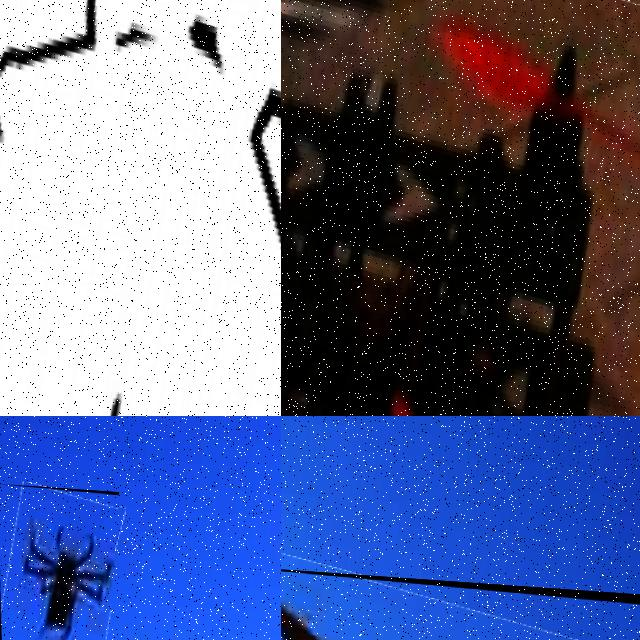0: (281, 563, 640, 640), (0, 483, 118, 640)
drone: (281, 0, 640, 416), (0, 0, 281, 416)
